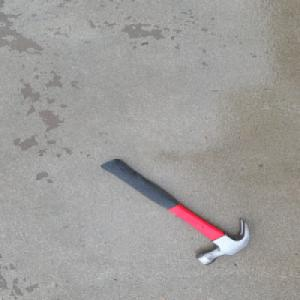Hammer: (99, 157, 251, 264)
